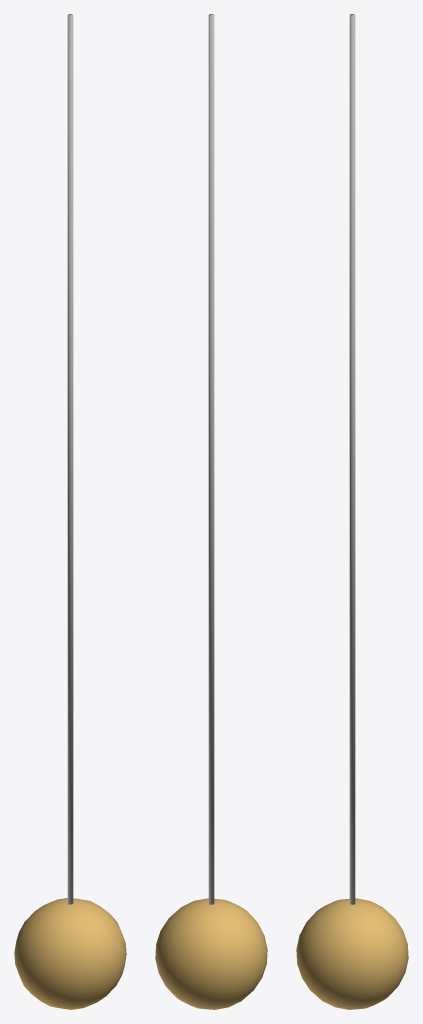
File: pendulum_snake_p1.glb
3 renders of one model, left to right at view 1: azimuth 30°, elevation 25°; view 2: azimuth 210°, elevation 25°; view 3: azimuth 330°, elevation 25°, orthographic.
Visible parts, largest first — view 1: Sphere1.001, Pendulum1.001; view 2: Sphere1.001, Pendulum1.001; view 3: Sphere1.001, Pendulum1.001.
Part boxes in pixels (x1=…): Sphere1.001: x1=14, y1=898, x2=126, y2=1009; Pendulum1.001: x1=67, y1=14, x2=73, y2=904; Sphere1.001: x1=155, y1=898, x2=267, y2=1009; Pendulum1.001: x1=208, y1=14, x2=214, y2=904; Sphere1.001: x1=296, y1=898, x2=408, y2=1009; Pendulum1.001: x1=349, y1=14, x2=355, y2=904.
Size of the model in its own units: 0.04 by 0.3907 by 0.04.
